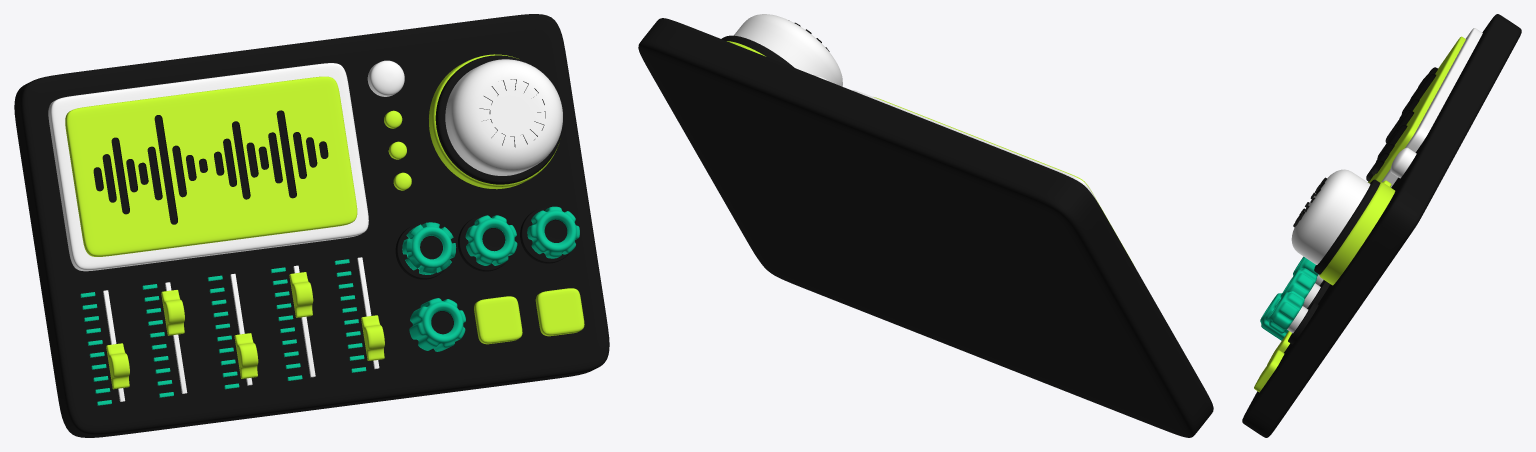
Rendered from audio-mixer-3d-animated-icon-702268894935.glb.
3 renders of one model, left to right at view 1: azimuth 30°, elevation 25°; view 2: azimuth 150°, elevation 25°; view 3: azimuth 270°, elevation 25°, orthographic. The views are drawn at different scales.
Visible parts, largest first — view 1: Plane.056, Plane.057, Plane.119, Cylinder.129, Cylinder.158, Cylinder.141, Cylinder.132, Cylinder.138, Cylinder.135, Plane.059, Plane.058, Cylinder.130 (+16 smaller); view 2: Plane.056, Cylinder.129, Plane.119; view 3: Plane.056, Cylinder.129, Cylinder.130, Plane.119, Plane.057, Cylinder.158, Cylinder.138, Cylinder.135, Cylinder.143, Plane.059, Cylinder.141, Plane.088.
Part boxes in pixels (<box>): Plane.056: <box>14,14,609,437</box>; Plane.057: <box>65,76,357,256</box>; Plane.119: <box>48,63,368,271</box>; Cylinder.129: <box>445,59,562,175</box>; Cylinder.158: <box>435,55,562,184</box>; Cylinder.141: <box>409,298,465,351</box>; Cylinder.132: <box>402,222,456,274</box>; Cylinder.138: <box>527,206,579,258</box>; Cylinder.135: <box>465,215,517,265</box>; Plane.059: <box>535,288,584,336</box>; Plane.058: <box>474,296,522,344</box>; Cylinder.130: <box>429,54,559,189</box>; Plane.056: <box>638,18,1213,437</box>; Cylinder.129: <box>734,14,842,86</box>; Plane.119: <box>852,90,1097,202</box>; Plane.056: <box>1242,14,1521,437</box>; Cylinder.129: <box>1291,169,1370,264</box>; Cylinder.130: <box>1319,182,1395,285</box>; Plane.119: <box>1381,28,1482,187</box>; Plane.057: <box>1368,36,1465,183</box>; Cylinder.158: <box>1314,179,1380,274</box>; Cylinder.138: <box>1268,291,1304,333</box>; Cylinder.135: <box>1280,268,1316,298</box>; Cylinder.143: <box>1390,147,1416,178</box>; Plane.059: <box>1254,350,1284,392</box>; Cylinder.141: <box>1260,293,1288,340</box>; Plane.088: <box>1385,73,1436,142</box>.
Bounding box in the file's own units: 5.25 × 2.9 × 2.91.
